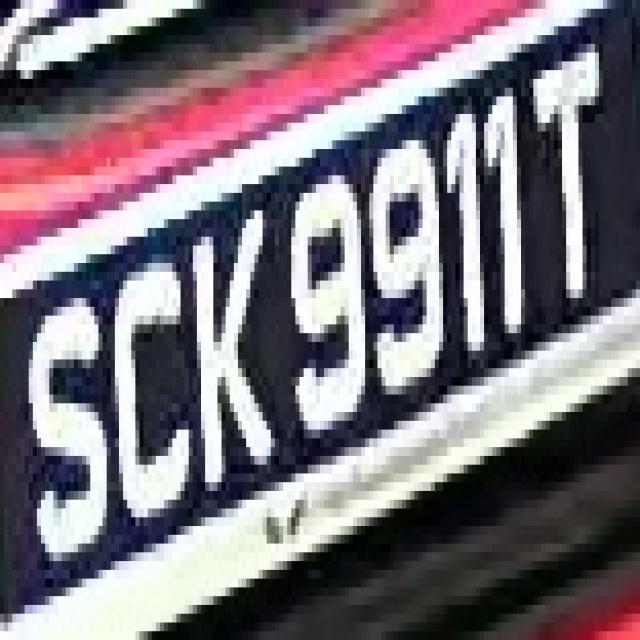1: (439, 70, 488, 395), (488, 61, 525, 377)
9: (287, 140, 369, 456), (365, 123, 447, 421)
C: (111, 228, 201, 535)
K: (180, 175, 275, 518)
S: (20, 280, 111, 552)
T: (517, 44, 619, 333)
